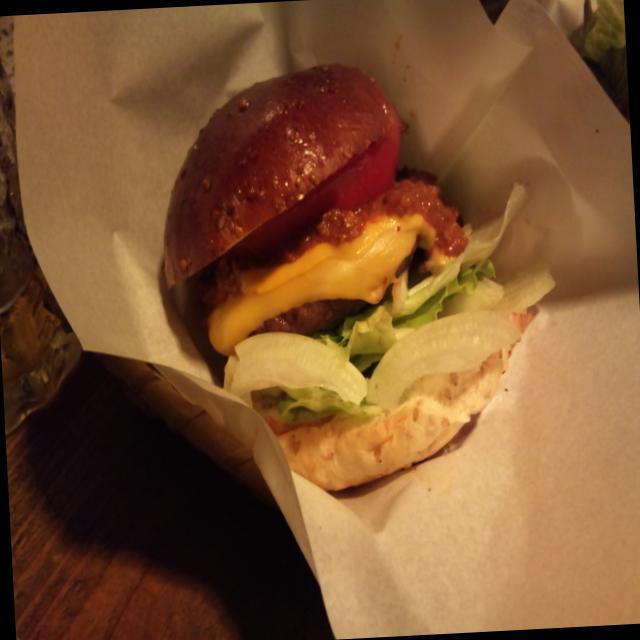Hamburger: (146, 58, 560, 500)
